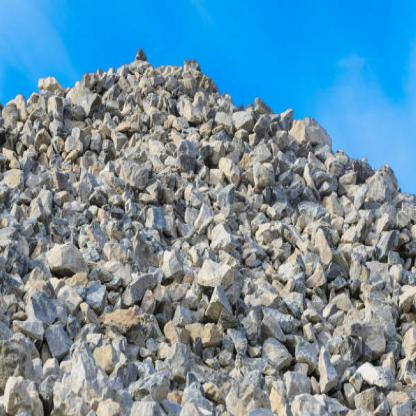Sedimentary_Limestone: (93, 301, 149, 347), (190, 253, 242, 300), (350, 352, 402, 390), (28, 264, 60, 323), (174, 381, 218, 415), (59, 79, 96, 118), (362, 162, 397, 203), (128, 386, 177, 415), (254, 333, 293, 363), (44, 316, 72, 354), (249, 138, 272, 164)
